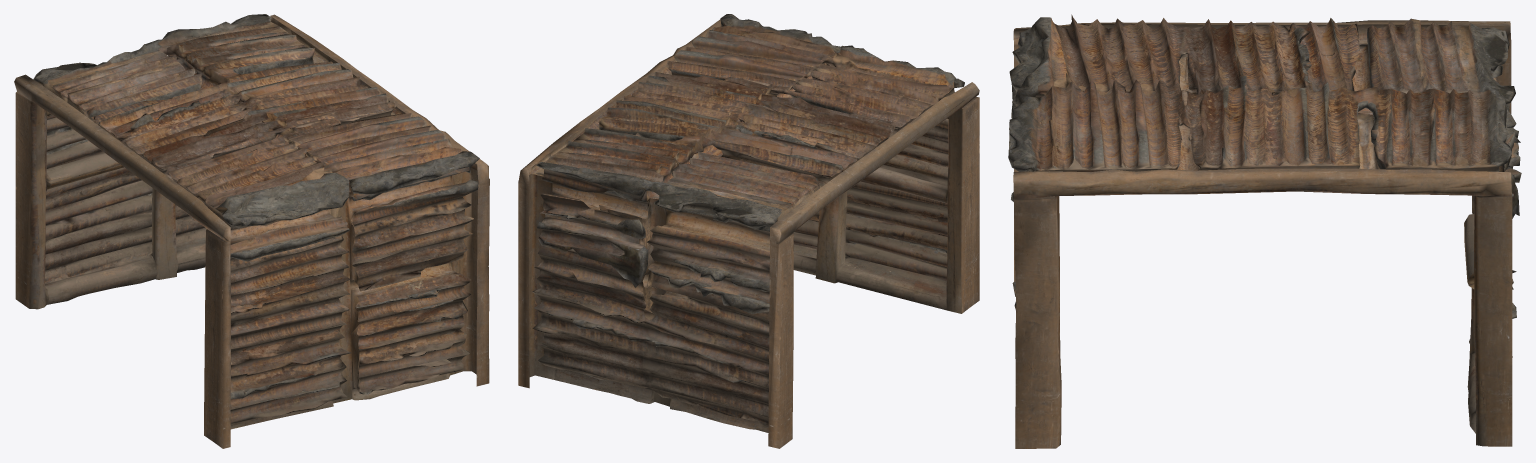
Rendered from tunel.glb.
3 views of the same model, side by side, from view 1: azimuth 30°, elevation 25°; view 2: azimuth 150°, elevation 25°; view 3: azimuth 270°, elevation 25° (orthographic). The views are drawn at different scales.
Visible parts, largest first — view 1: wcbpdgcdw_LOD0_TIER2_000; view 2: wcbpdgcdw_LOD0_TIER2_000; view 3: wcbpdgcdw_LOD0_TIER2_000.
Part boxes in pixels (<box>): wcbpdgcdw_LOD0_TIER2_000: <box>14,14,489,448</box>; wcbpdgcdw_LOD0_TIER2_000: <box>518,14,979,448</box>; wcbpdgcdw_LOD0_TIER2_000: <box>1008,14,1521,448</box>.
Size of the model in its own units: 2.81 by 2.37 by 3.81.
1 material, 1 textured.
